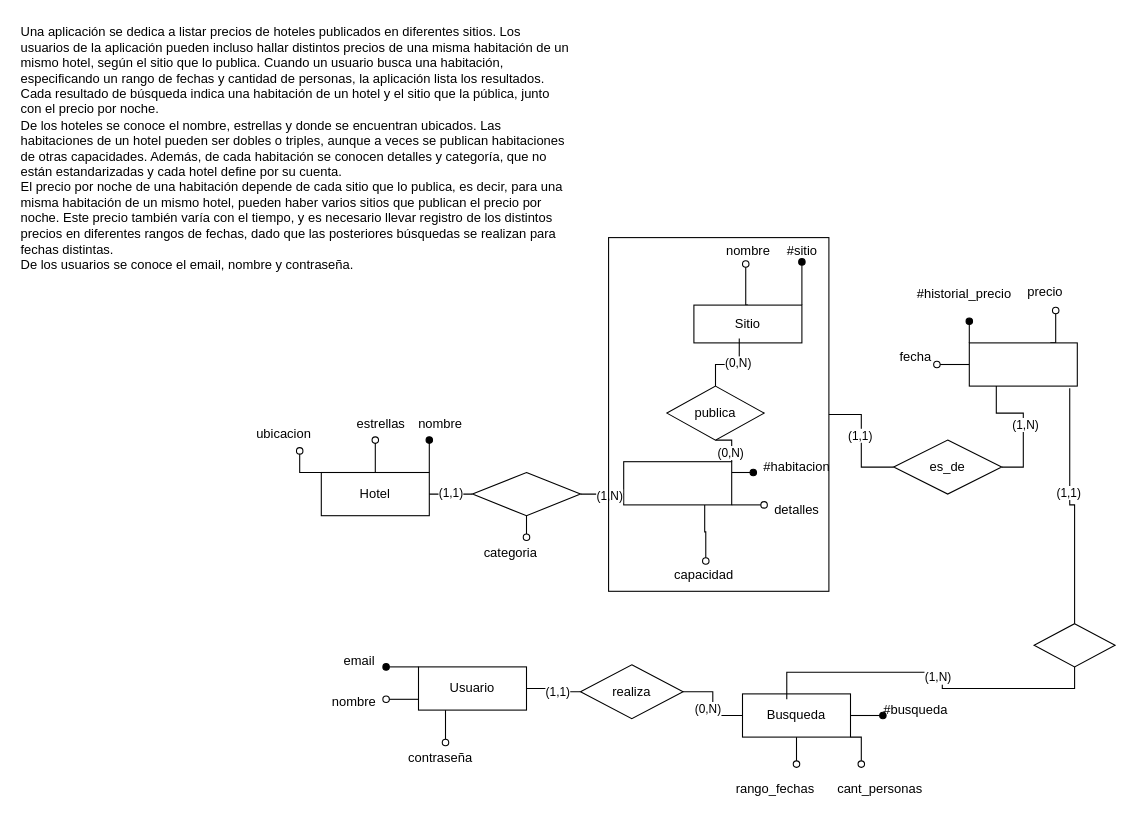
The diagram is 1134 pixels wide and 823 high, and some of its shapes have lost their labels. Each missing label, with the centre of its shape:
contiene: point 1074,645
Habitación: point 677,483
historial_precio: point 1022,364
posee: point 525,493
